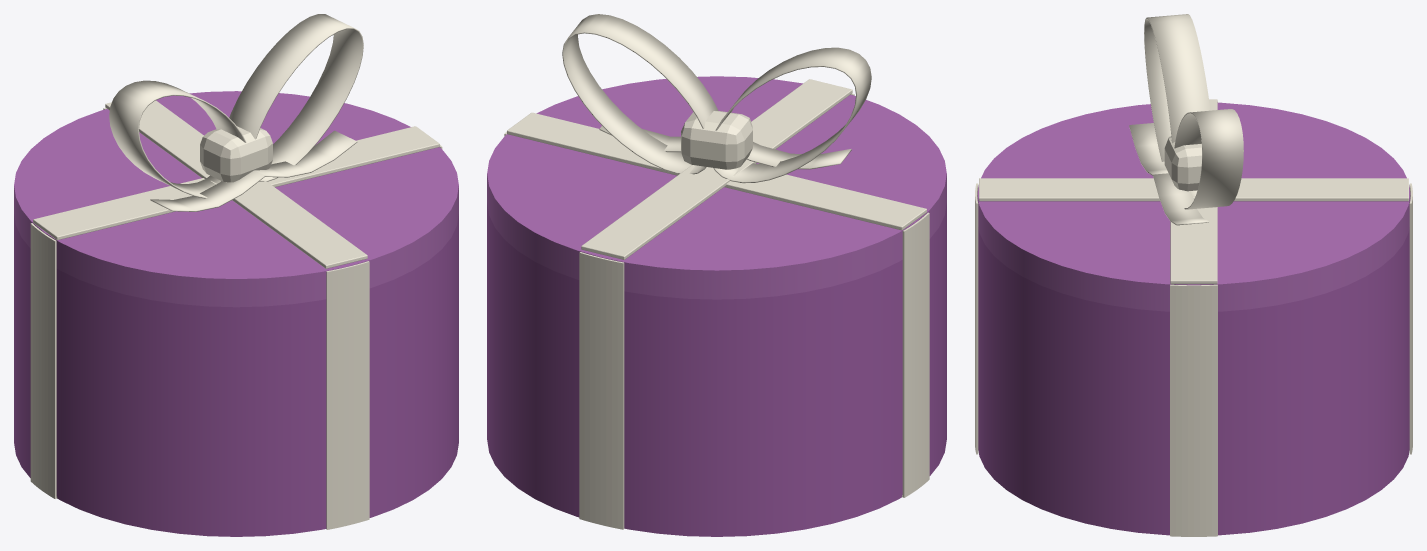
File: present_round_purple.glb
The picture shows the model from 3 angles, left to right: view 1: azimuth 30°, elevation 25°; view 2: azimuth 150°, elevation 25°; view 3: azimuth 270°, elevation 25°; orthographic projection. The views are drawn at different scales.
Parts seen in each view (by area): view 1: Round purple gift box, Round purple fitted lid, Ribbon around circular box side.003, Curved bow loop 1, Round lid ribbon across Y, Ribbon around circular box side.002, Round lid ribbon across X, Curved bow loop 2, Ribbon center knot, Bow ribbon tail.001, Bow ribbon tail; view 2: Round purple gift box, Round purple fitted lid, Ribbon around circular box side.001, Round lid ribbon across Y, Curved bow loop 1, Round lid ribbon across X, Ribbon around circular box side.002, Curved bow loop 2, Ribbon center knot, Bow ribbon tail; view 3: Round purple gift box, Round purple fitted lid, Ribbon around circular box side, Round lid ribbon across Y, Curved bow loop 2, Curved bow loop 1, Round lid ribbon across X, Ribbon center knot, Bow ribbon tail.001, Bow ribbon tail, Ribbon around circular box side.001, Ribbon around circular box side.003.
Part boxes in pixels (left/top/right/bottom): Round purple gift box: left=14, top=214, right=458, bottom=536; Round purple fitted lid: left=14, top=91, right=458, bottom=307; Ribbon around circular box side.003: left=326, top=261, right=369, bottom=529; Curved bow loop 1: left=229, top=14, right=363, bottom=181; Round lid ribbon across Y: left=105, top=100, right=367, bottom=268; Ribbon around circular box side.002: left=30, top=223, right=56, bottom=498; Round lid ribbon across X: left=33, top=126, right=439, bottom=240; Curved bow loop 2: left=109, top=80, right=246, bottom=198; Ribbon center knot: left=200, top=126, right=272, bottom=182; Bow ribbon tail.001: left=254, top=130, right=357, bottom=177; Bow ribbon tail: left=150, top=170, right=264, bottom=211; Round purple gift box: left=487, top=203, right=946, bottom=536; Round purple fitted lid: left=487, top=76, right=946, bottom=299; Ribbon around circular box side.001: left=579, top=252, right=624, bottom=529; Round lid ribbon across Y: left=581, top=79, right=852, bottom=259; Curved bow loop 1: left=562, top=14, right=718, bottom=174; Round lid ribbon across X: left=507, top=112, right=926, bottom=230; Ribbon around circular box side.002: left=902, top=212, right=929, bottom=497; Curved bow loop 2: left=713, top=47, right=871, bottom=183; Ribbon center knot: left=681, top=111, right=752, bottom=169; Bow ribbon tail: left=747, top=142, right=851, bottom=169; Round purple gift box: left=978, top=227, right=1409, bottom=535; Round purple fitted lid: left=977, top=102, right=1410, bottom=311; Ribbon around circular box side: left=1170, top=284, right=1217, bottom=536; Round lid ribbon across Y: left=979, top=178, right=1408, bottom=201; Curved bow loop 2: left=1144, top=14, right=1210, bottom=161; Curved bow loop 1: left=1174, top=109, right=1243, bottom=209; Round lid ribbon across X: left=1170, top=99, right=1217, bottom=284; Ribbon center knot: left=1164, top=136, right=1201, bottom=191; Bow ribbon tail.001: left=1153, top=173, right=1208, bottom=225; Bow ribbon tail: left=1129, top=123, right=1168, bottom=175; Ribbon around circular box side.001: left=1409, top=183, right=1412, bottom=454; Ribbon around circular box side.003: left=975, top=183, right=978, bottom=454.
Size of the model in its own units: 0.435 by 0.4123 by 0.435.
